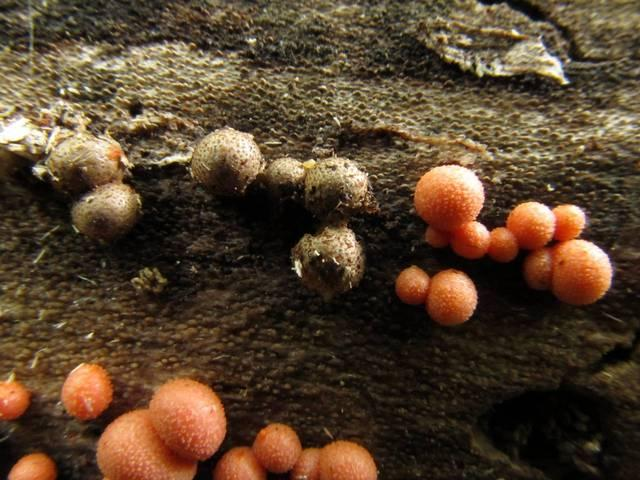Non-edible Mushroom: (0, 361, 381, 479), (394, 162, 613, 326), (95, 407, 198, 479), (148, 376, 227, 461), (39, 128, 131, 195), (289, 223, 365, 300), (188, 125, 264, 198), (412, 163, 485, 231), (301, 155, 374, 219), (69, 181, 142, 244), (550, 238, 613, 305), (59, 361, 113, 420), (425, 267, 478, 326), (251, 421, 301, 473), (505, 200, 556, 249), (317, 439, 378, 479), (212, 445, 267, 479), (0, 371, 31, 420), (5, 451, 57, 479), (394, 264, 429, 305)
